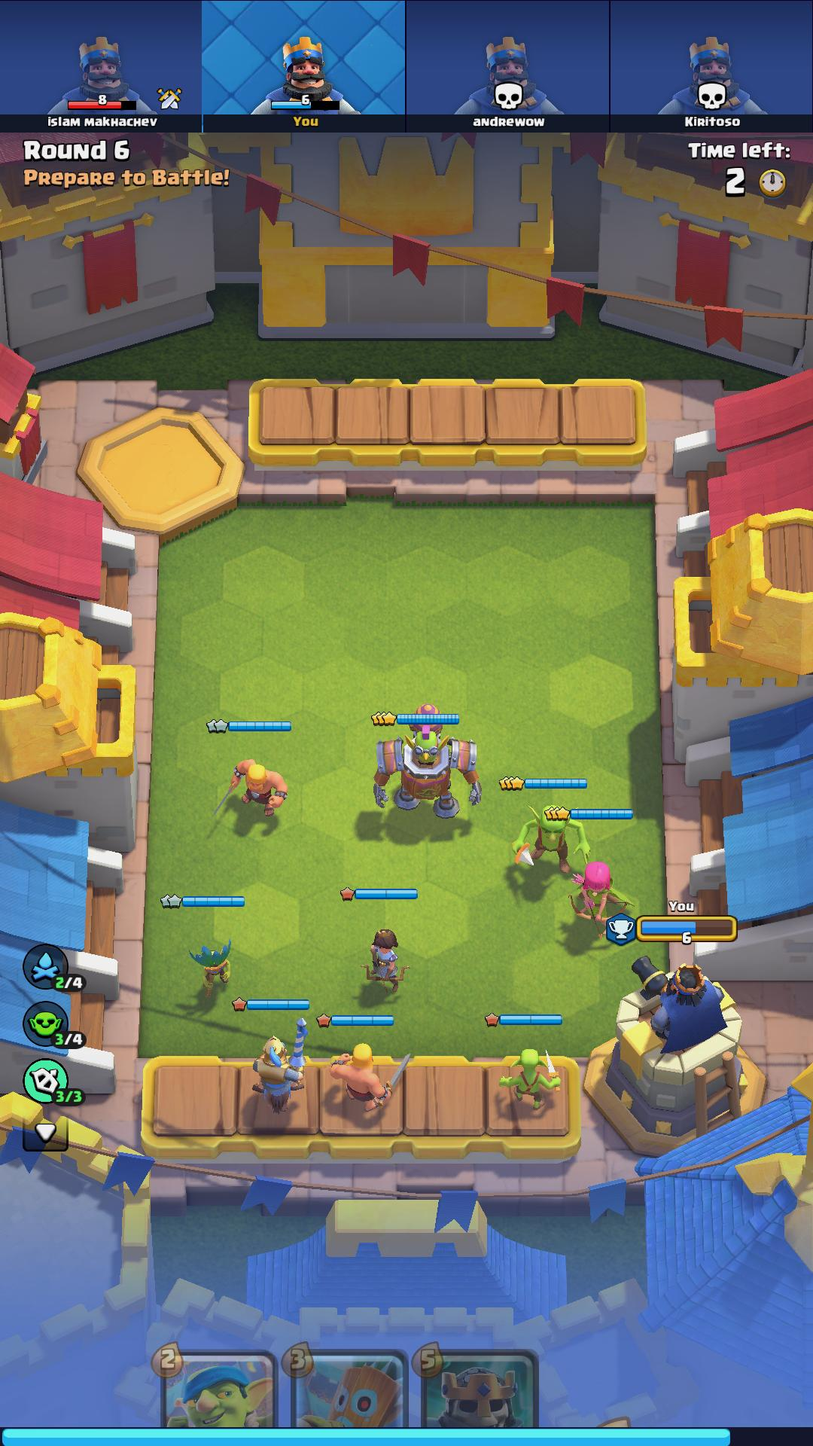archer: (553, 855, 643, 930)
barbarian: (312, 1025, 419, 1117), (212, 758, 308, 834)
dart: (177, 931, 244, 990)
goblin: (487, 1038, 581, 1114), (506, 799, 593, 872)
machine: (372, 725, 492, 827)
prince: (237, 1013, 314, 1107)
princess: (351, 914, 418, 992)
